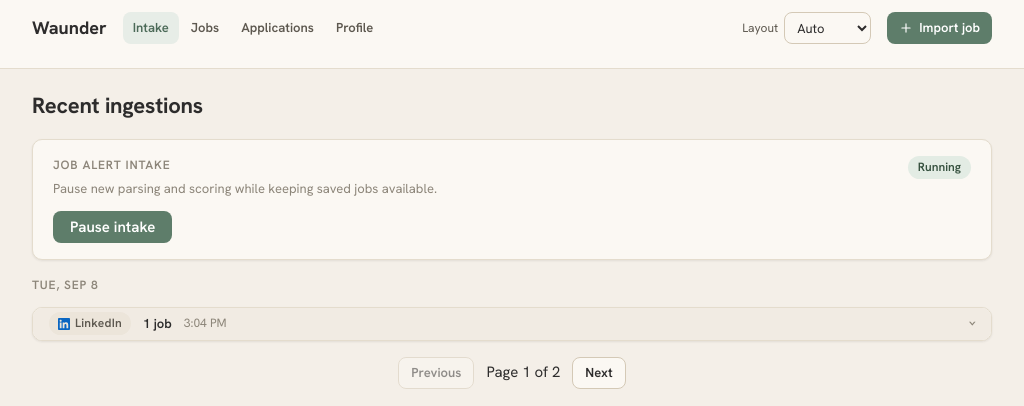
Test: pagination › asks the server for the next page and steps back again
Expected: the element with class "digest-content" is shown, 32,139 -> 992,389
Click the button "Next": (599, 373) 572,357 -> 626,389
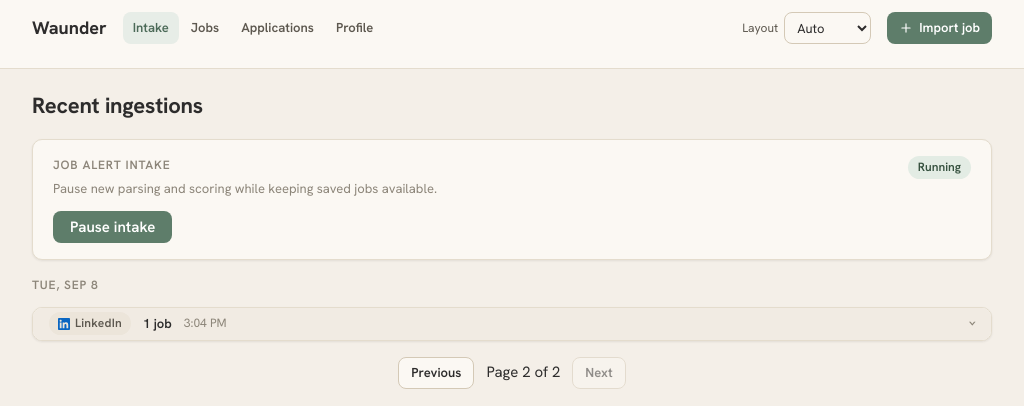
Expected: the text "Page 2 of 2" is shown, 486,361 -> 560,384
Click the button "Previous": (436, 373) 398,357 -> 474,389
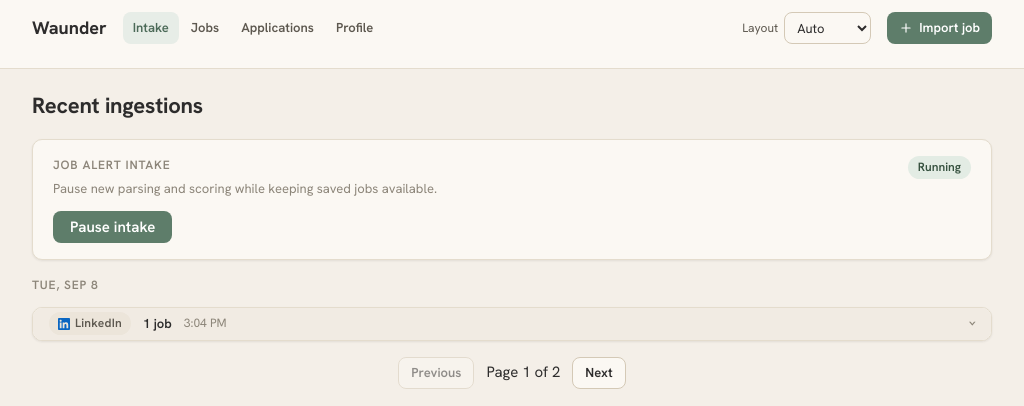
Expected: the text "Page 1 of 2" is shown, 486,361 -> 560,384
